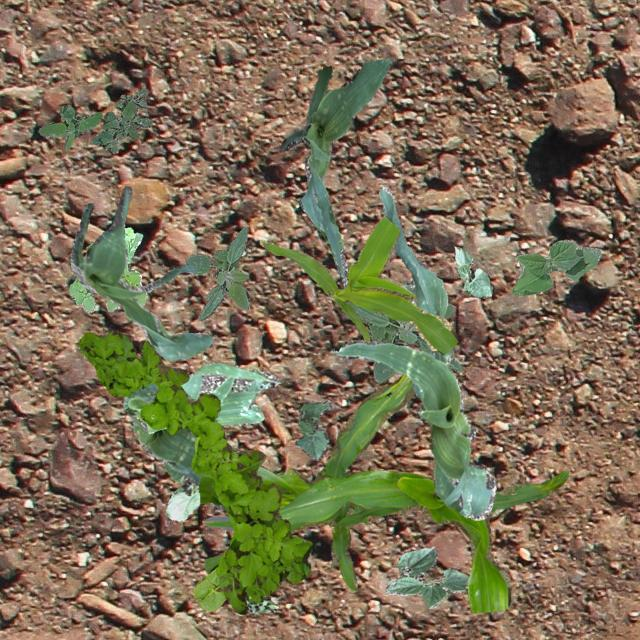crop: (198, 372, 566, 612), (330, 186, 494, 518), (258, 215, 458, 354), (70, 184, 212, 360), (280, 58, 388, 286), (123, 382, 239, 509), (348, 280, 460, 382), (123, 362, 280, 432), (384, 546, 468, 608), (510, 238, 600, 294), (161, 460, 203, 520), (294, 400, 330, 460), (452, 246, 492, 296), (190, 566, 226, 610)
weed: (76, 330, 312, 612), (69, 227, 145, 310), (184, 226, 248, 320), (90, 88, 152, 152), (36, 104, 100, 150), (242, 594, 278, 612)
